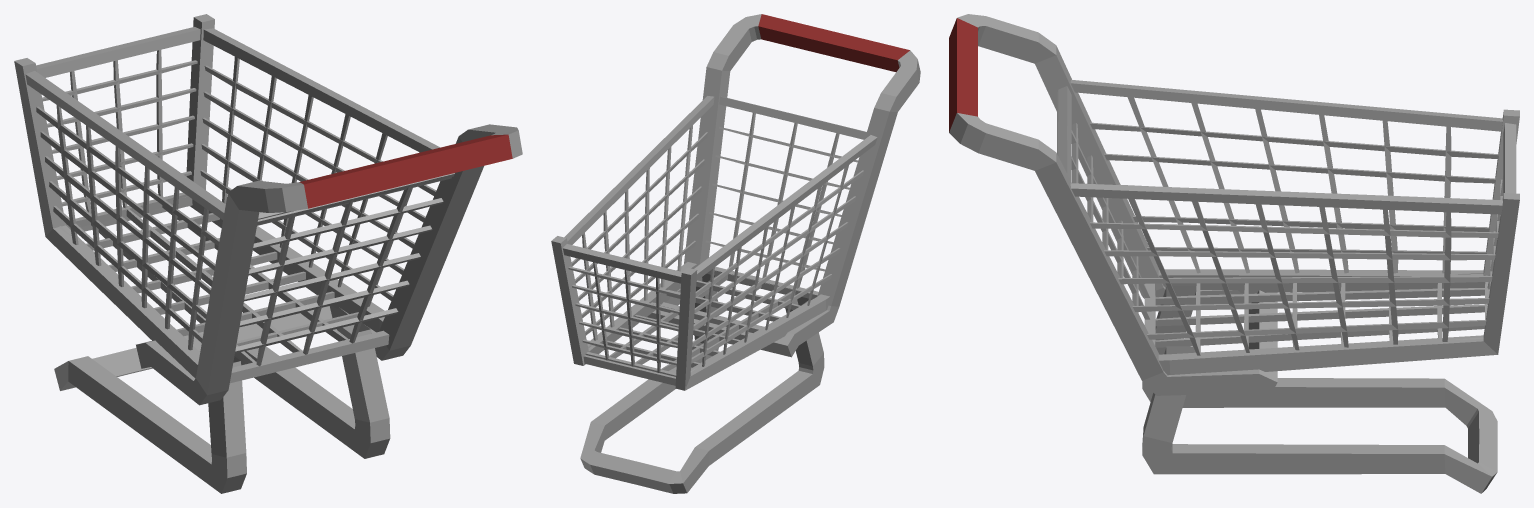
File: cart.gltf
3 views of the same model, side by side, from view 1: azimuth 30°, elevation 25°; view 2: azimuth 150°, elevation 25°; view 3: azimuth 270°, elevation 25° (orthographic). The views are drawn at different scales.
Visible parts, largest first — view 1: Cube, Cube.010; view 2: Cube, Cube.010; view 3: Cube, Cube.010.
Boxes of the visible parts, x1,y1,x2,y2 form: Cube: (14, 14, 522, 493); Cube.010: (36, 50, 454, 366); Cube: (551, 14, 920, 493); Cube.010: (568, 113, 863, 376); Cube: (949, 14, 1519, 493); Cube.010: (1057, 91, 1503, 355).
Bounding box in the file's own units: 0.7476 × 1.19 × 1.54.
